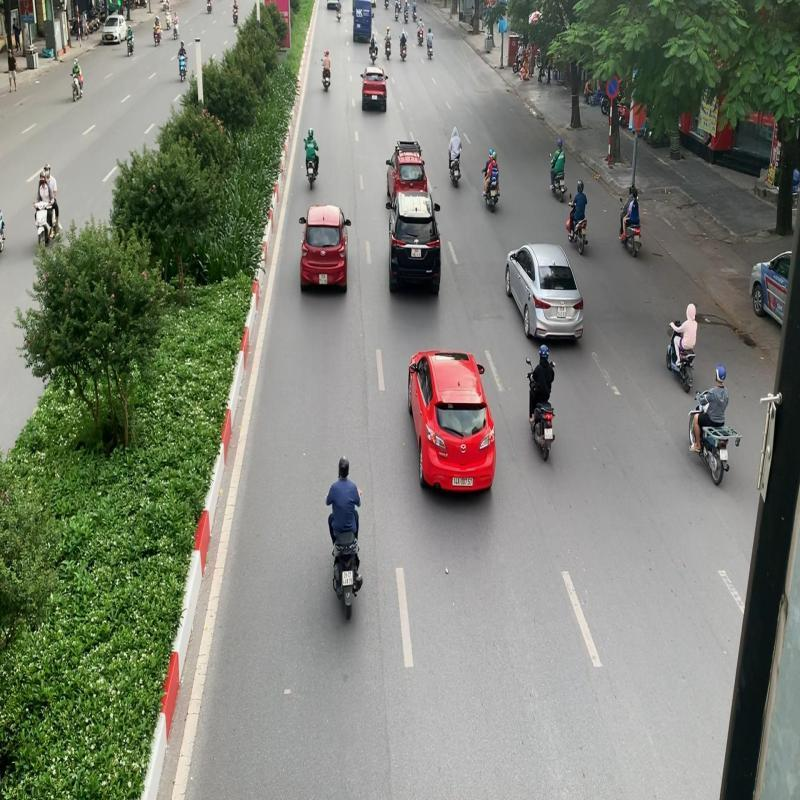helmet: (714, 364, 728, 386), (338, 455, 350, 478), (540, 344, 550, 360)
licenseplate: (342, 570, 354, 587), (544, 428, 554, 439), (720, 450, 728, 461)
motorcyclist: (324, 454, 364, 622), (687, 363, 735, 486), (525, 343, 557, 463)
